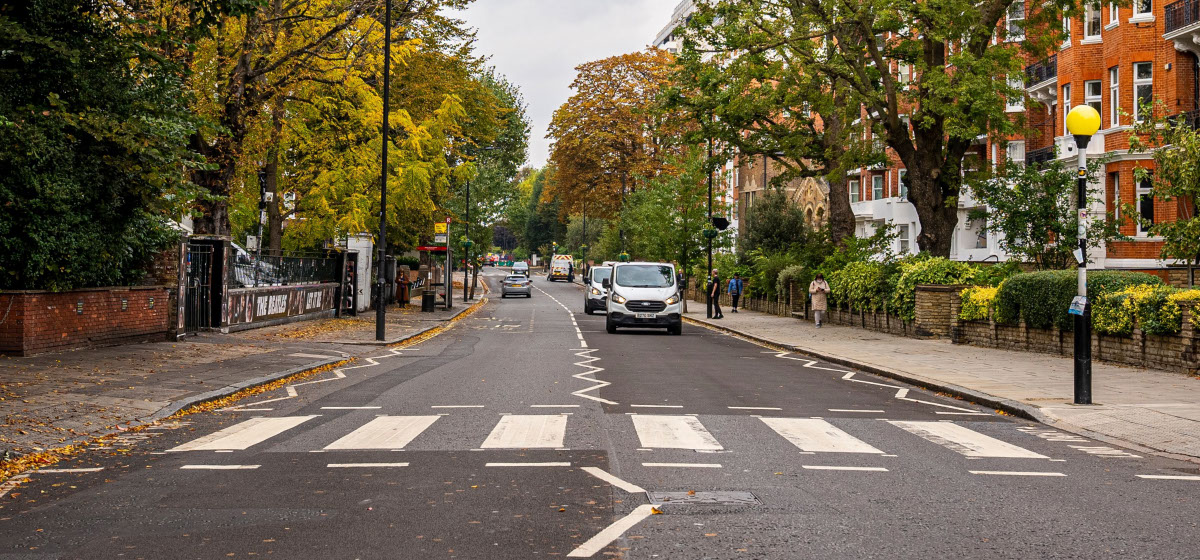Car: (598, 238, 694, 339), (490, 269, 537, 297)
Crosswalk: (180, 378, 1113, 494)
Person: (799, 274, 840, 329)
Tree: (660, 1, 1003, 258), (113, 1, 313, 320)
